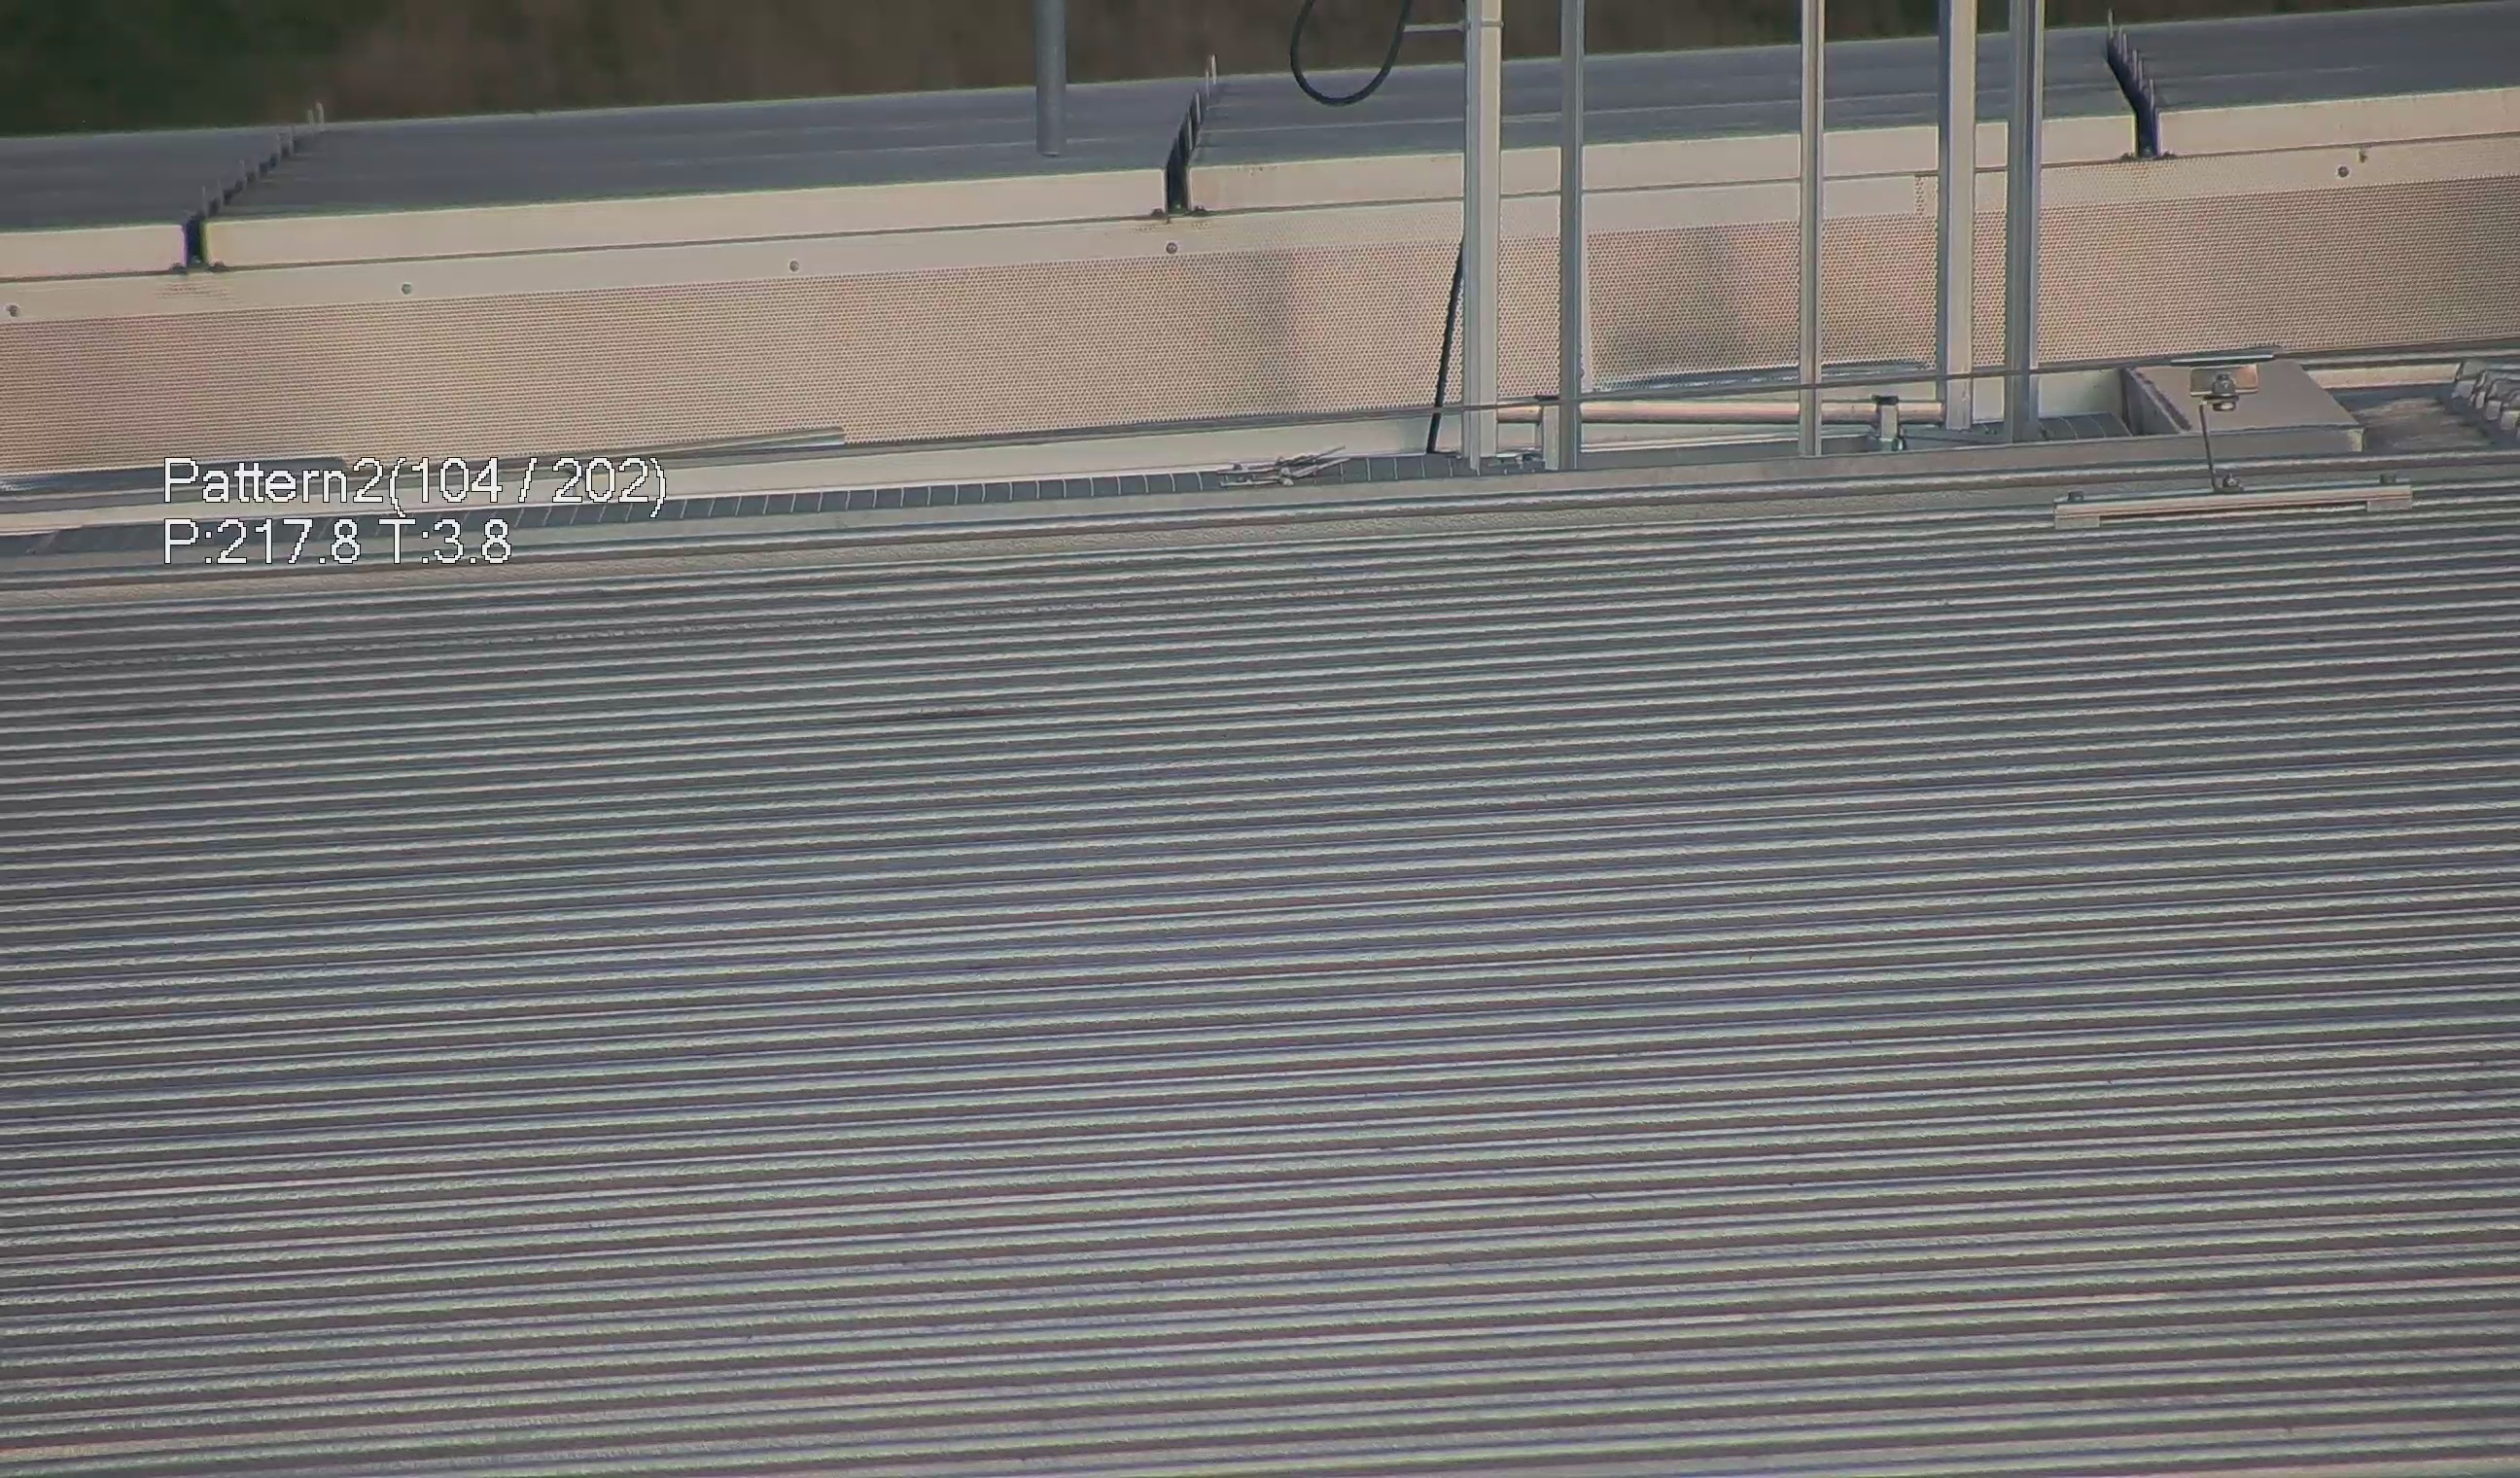Other: (2098, 9, 2186, 169)
